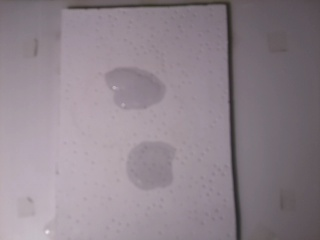Water_detected: (126, 152, 168, 192), (120, 75, 153, 111)
